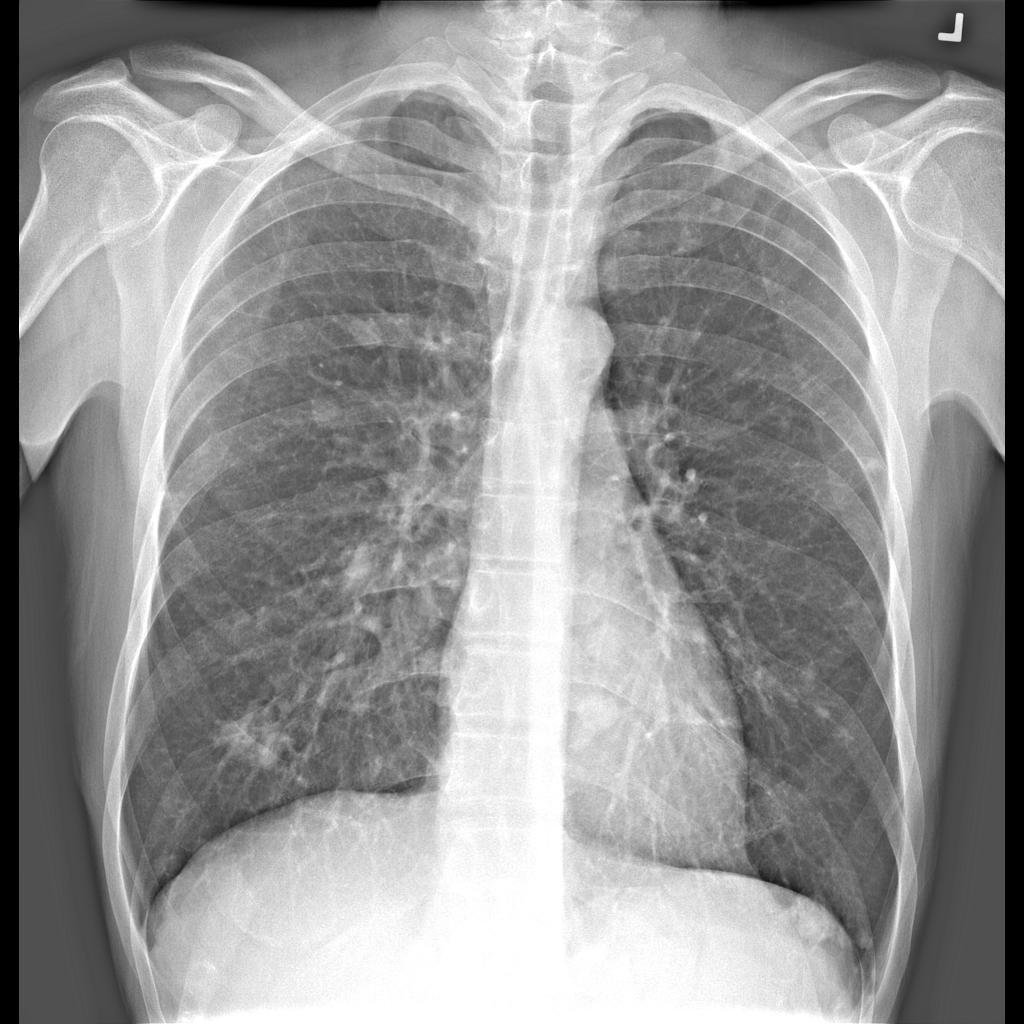Nodule: (209, 691, 295, 778), (577, 680, 625, 744), (303, 383, 347, 438)
